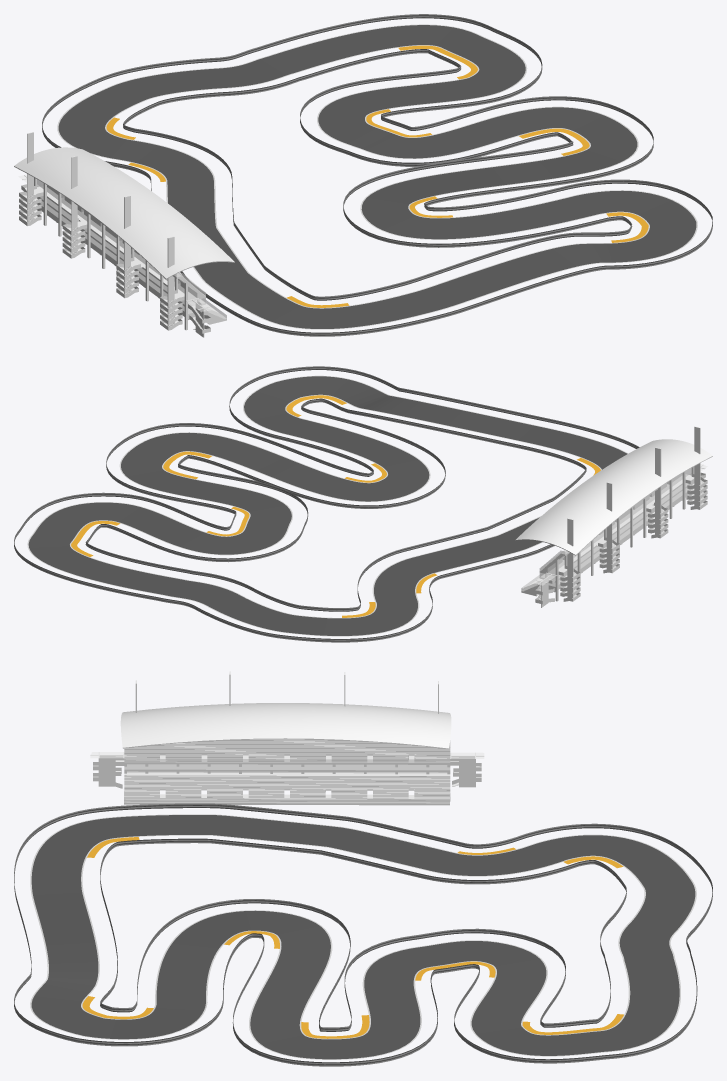
Rendered from Track6finaledi.fbx.
The picture shows the model from 3 angles, top to bottom: view 1: azimuth 30°, elevation 25°; view 2: azimuth 150°, elevation 25°; view 3: azimuth 270°, elevation 25°; orthographic projection. The views are drawn at different scales.
Visible parts, largest first — view 1: Road, Spectators, Barrier, Bumper; view 2: Road, Spectators, Barrier, Bumper; view 3: Road, Spectators, Barrier, Bumper.
Part boxes in pixels (box(x1,y1,x2,y2)): Road: box(57, 24, 697, 329); Spectators: box(14, 132, 234, 337); Barrier: box(42, 14, 712, 336); Bumper: box(106, 45, 648, 307); Road: box(27, 375, 627, 636); Spectators: box(515, 426, 712, 607); Barrier: box(14, 366, 639, 642); Bumper: box(71, 395, 600, 617); Road: box(30, 814, 696, 1059); Spectators: box(90, 671, 484, 805); Barrier: box(14, 803, 712, 1066); Bumper: box(82, 837, 623, 1038).
Bounding box in the file's own units: 20031 × 3364 × 20001.
